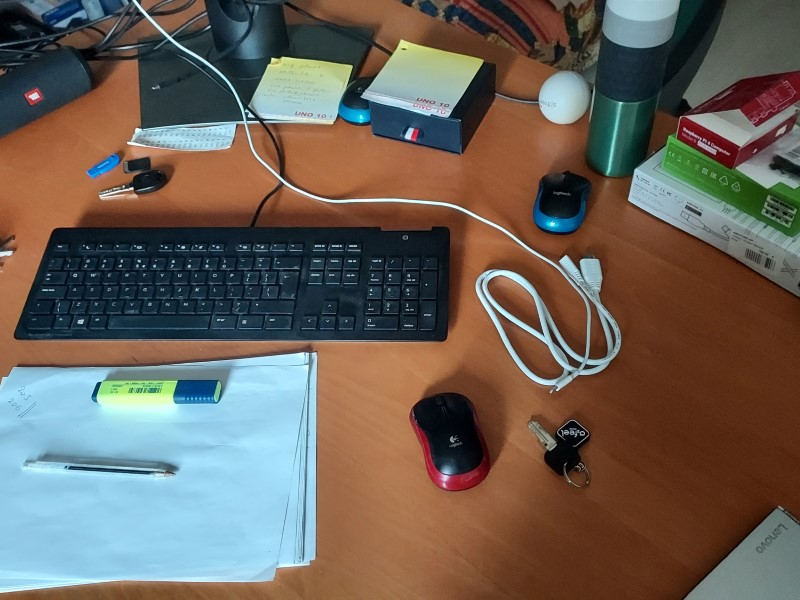key: (521, 412, 583, 478), (98, 164, 166, 202)
